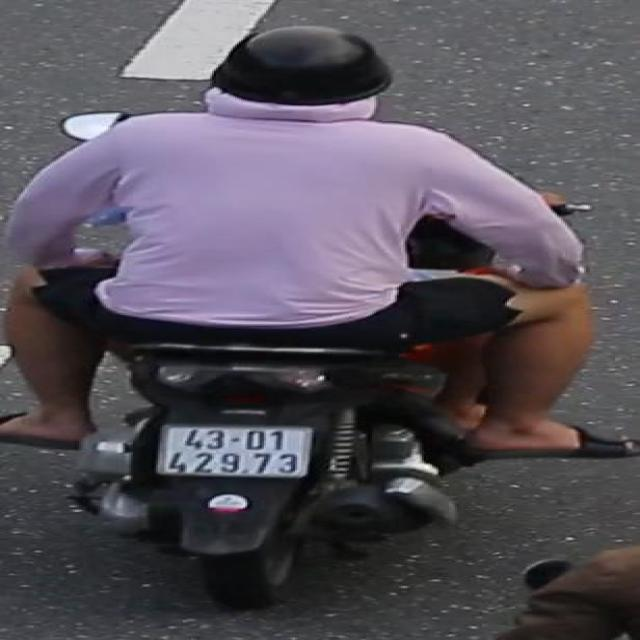LP: (149, 419, 319, 483)
helmet: (197, 20, 397, 132)
